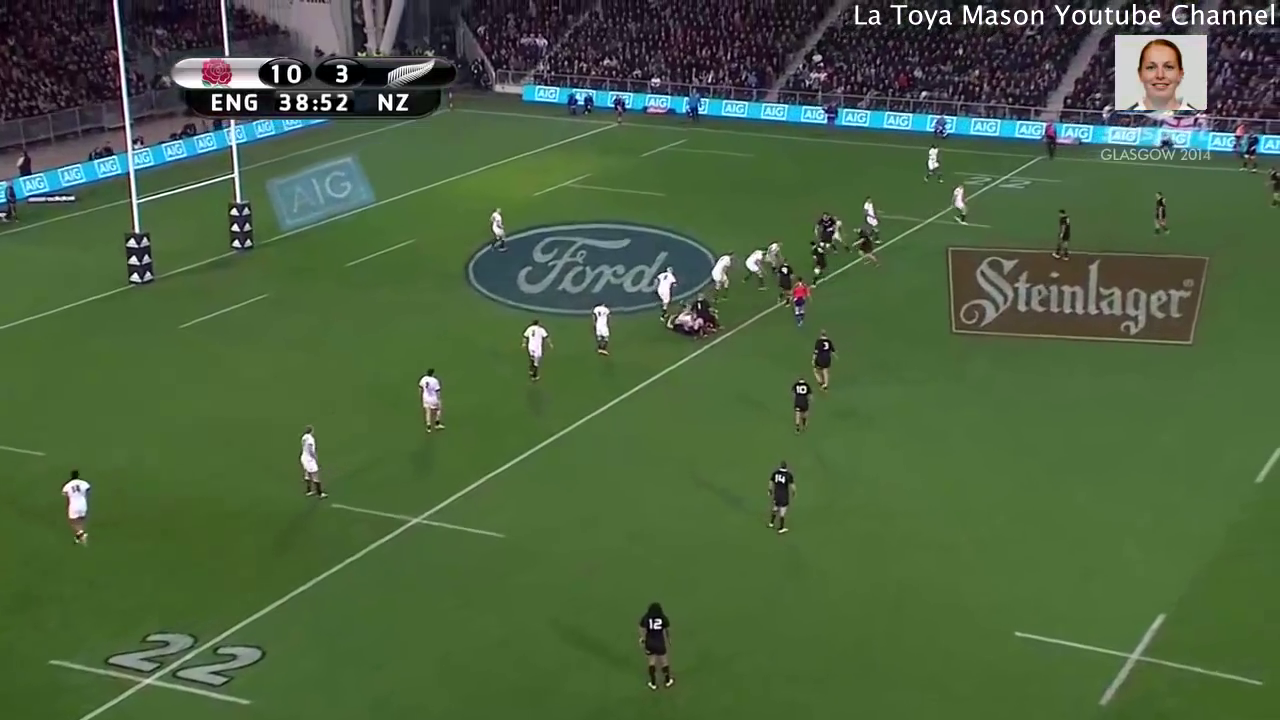10_metre: (1007, 604, 1265, 712)
player: (633, 602, 686, 700), (289, 420, 339, 507), (53, 470, 101, 554), (761, 459, 800, 539), (414, 365, 452, 436), (518, 316, 553, 380), (1045, 207, 1081, 269), (585, 300, 617, 359), (847, 221, 882, 270), (704, 247, 734, 300), (1146, 185, 1173, 239), (481, 204, 512, 248), (788, 276, 813, 330), (745, 244, 770, 295), (647, 261, 675, 306), (947, 184, 973, 231), (919, 142, 945, 188), (805, 240, 829, 284), (776, 260, 794, 298), (814, 212, 835, 243), (764, 238, 785, 263), (862, 197, 881, 224)
post: (115, 123, 261, 294)
ruck: (651, 295, 732, 347)
